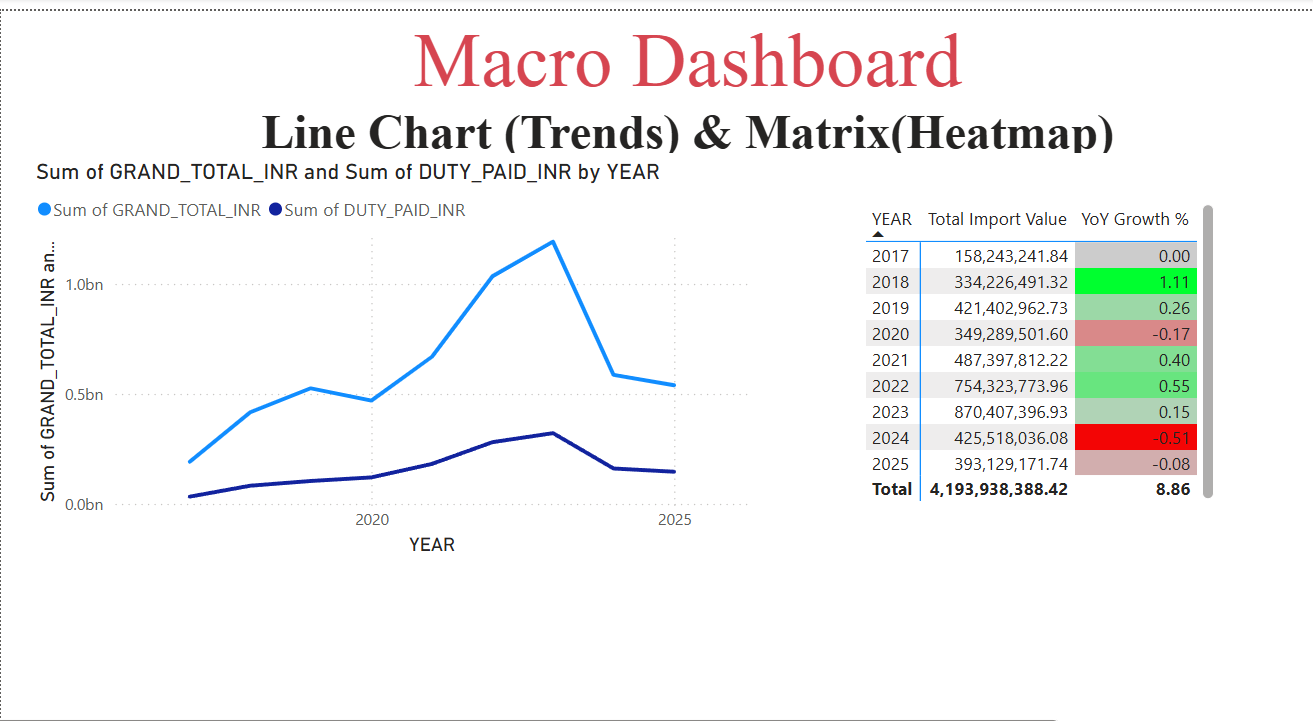

The dashboard page shown, as its layout file describes it:
{"tool":"powerbi","page":{"name":" Macro Dashboard","canvas":[1280,720],"ordinal":0},"visuals":[{"type":"lineChart","fields":{"Category":["processed_trade_data.YEAR"],"Y":["Sum(processed_trade_data.GRAND_TOTAL_INR)","Sum(processed_trade_data.DUTY_PAID_INR)"]},"box":[22,114,560,309],"z":0},{"type":"pivotTable","fields":{"Rows":["processed_trade_data.YEAR"],"Values":["processed_trade_data.Total Import Value","processed_trade_data.YoY Growth %","select"]},"box":[660,144,278,238],"z":1000},{"type":"textbox","box":[0,0,1064,114],"z":4000}]}

Visuals, with their boxes in screenshot pixels (x1, y1, x2, y2), scaled from the page's 1280x720 canvas onto the 1313x721 screenshot:
lineChart - processed_trade_data.YEAR x Sum(processed_trade_data.GRAND_TOTAL_INR): x1=23, y1=114, x2=597, y2=424
pivotTable - processed_trade_data.YEAR x processed_trade_data.Total Import Value: x1=677, y1=144, x2=962, y2=383
textbox: x1=0, y1=0, x2=1091, y2=114
